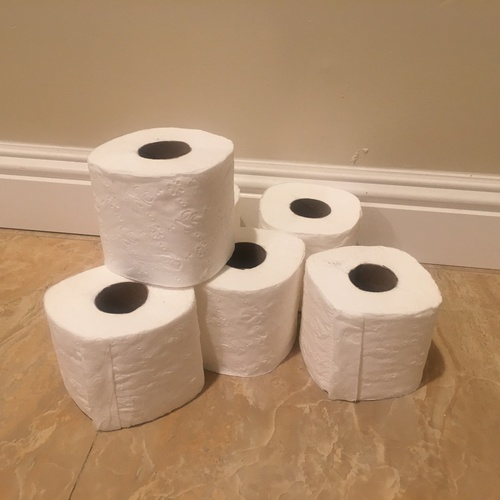roll: (43, 268, 206, 428), (86, 126, 236, 282), (301, 243, 440, 397), (201, 228, 305, 377), (264, 184, 363, 270)
